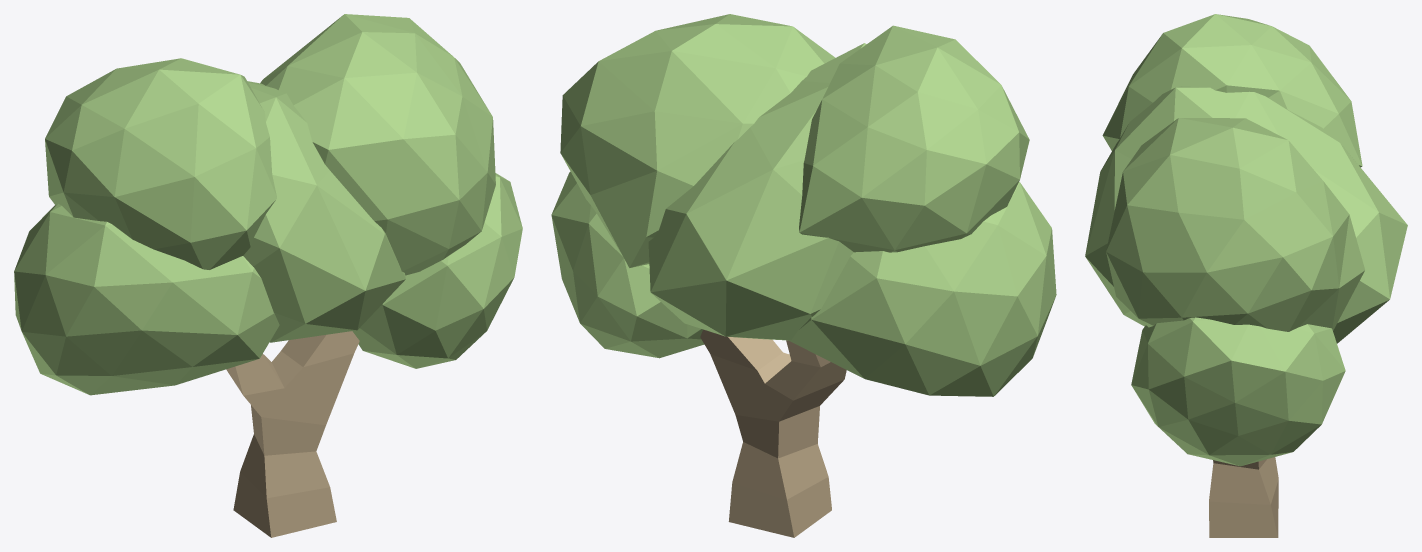
File: tree.gltf
3 views of the same model, side by side, from view 1: azimuth 30°, elevation 25°; view 2: azimuth 150°, elevation 25°; view 3: azimuth 270°, elevation 25° (orthographic). The views are drawn at different scales.
Visible parts, largest first — view 1: OakTree1; view 2: OakTree1; view 3: OakTree1.
Boxes of the visible parts, x1,y1,x2,y2 form: OakTree1: (14,14,522,537); OakTree1: (551,14,1056,537); OakTree1: (1085,14,1407,537).
Size of the model in its own units: 9.76 by 9.59 by 6.28.
